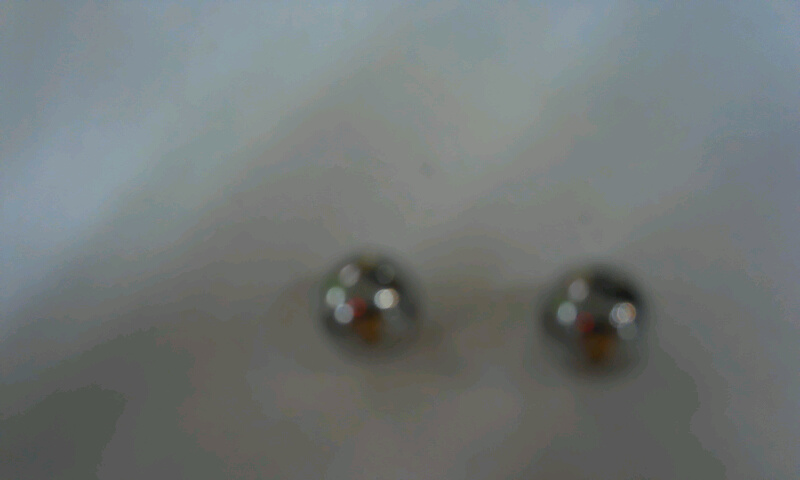steelball: (525, 253, 669, 397), (300, 233, 441, 376)
